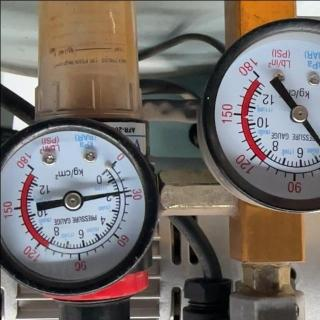gauge: (0, 112, 158, 314), (196, 3, 320, 221), (61, 189, 83, 211), (104, 152, 124, 172), (18, 156, 38, 176), (247, 63, 265, 85), (290, 104, 308, 124), (122, 187, 132, 195)
